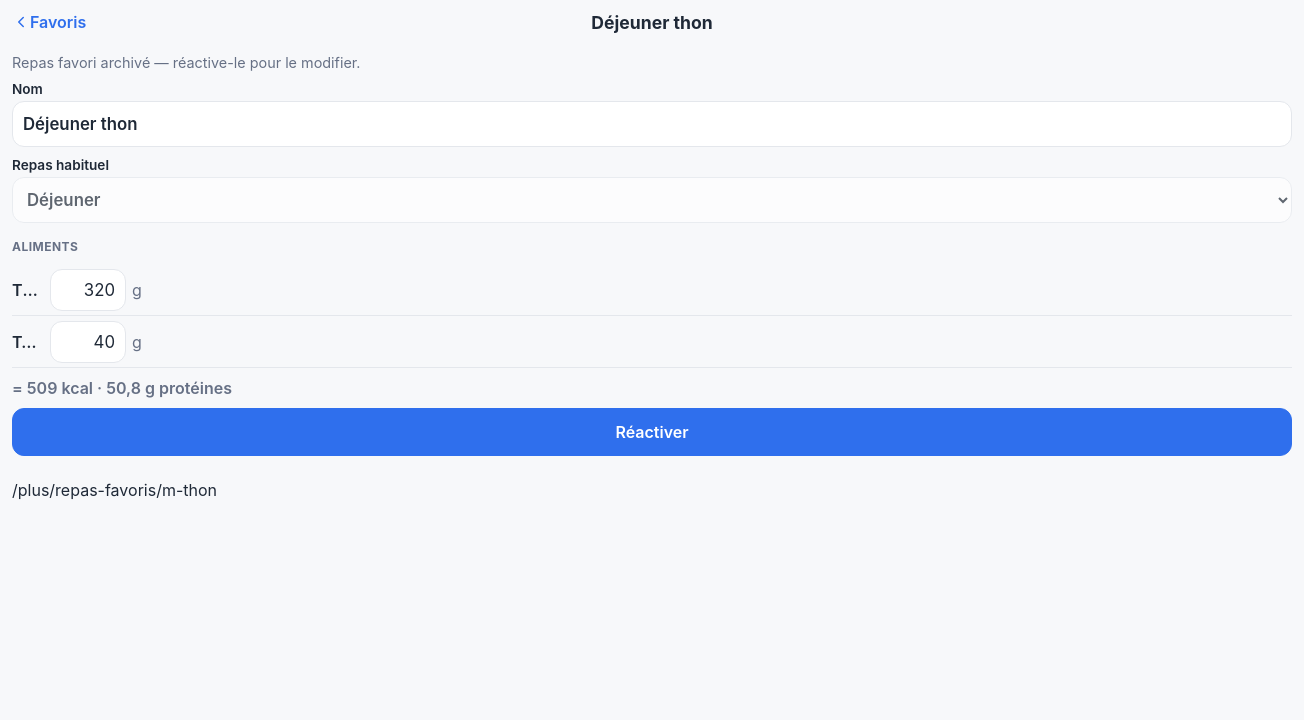
it: création et modification › repas favori archivé : lecture seule, avec « Réactiver »
Expected: the heading "Déjeuner thon" is shown, [591,12,713,32]
Expected: the text "Repas favori archivé — réactive-le pour le modifier." is shown, [12,54,360,71]
Click the button "Réactiver" at [652, 432], box [12,408,1292,456]
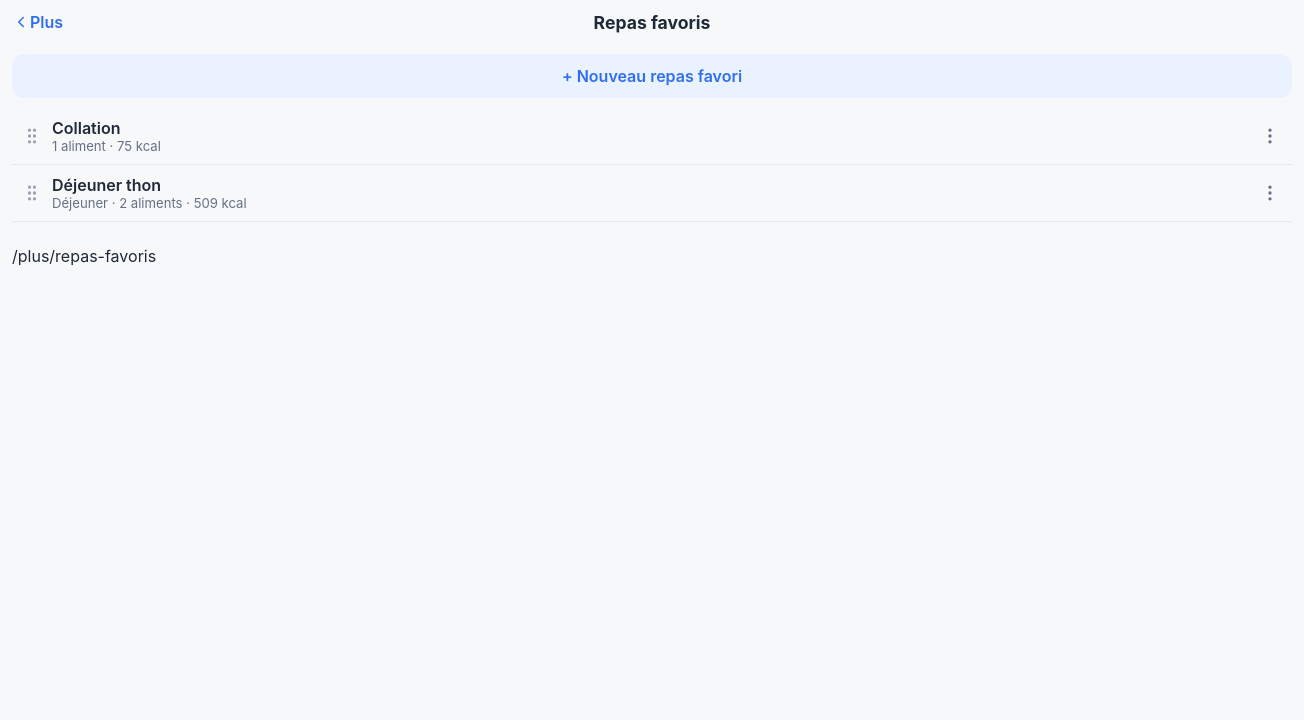
Result: the text with test id "url" reads "/plus/repas-favoris" at [12,246,156,266]
